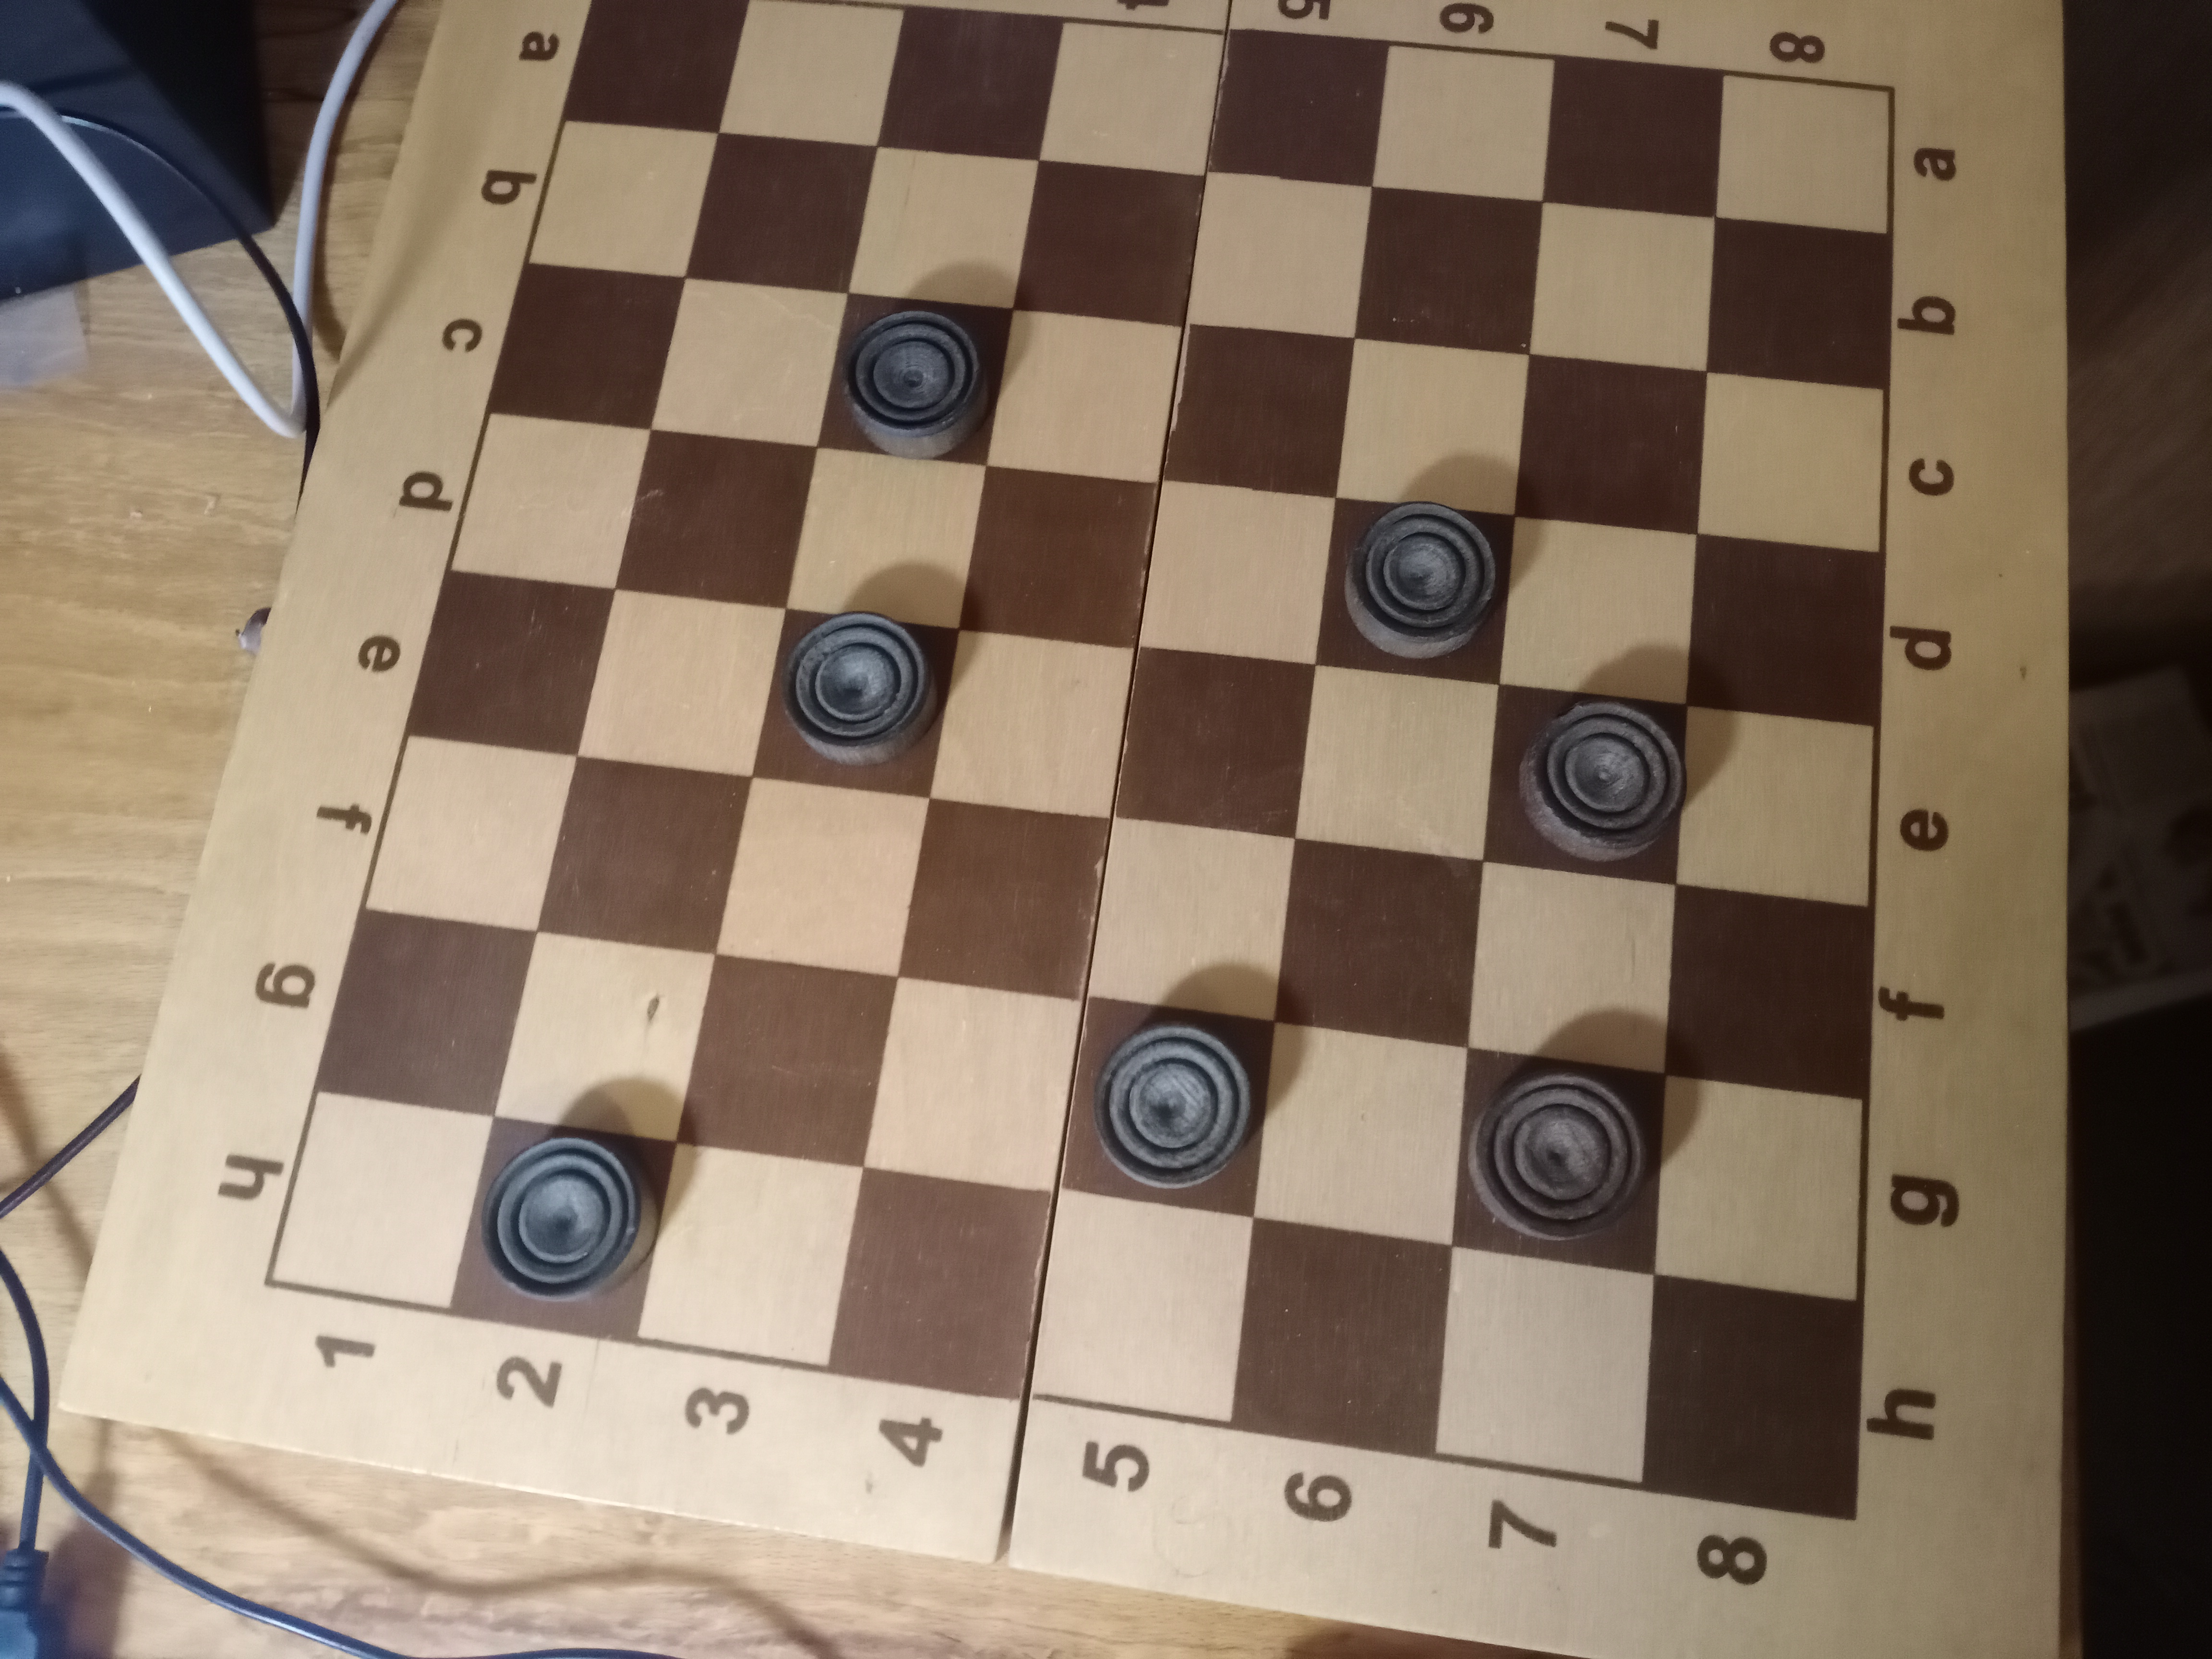Black_Draught: (451, 1117, 678, 1340), (1453, 1049, 1665, 1276), (1057, 995, 1271, 1216), (1486, 687, 1688, 885), (752, 610, 960, 800), (1313, 498, 1517, 685), (820, 295, 1015, 465)
